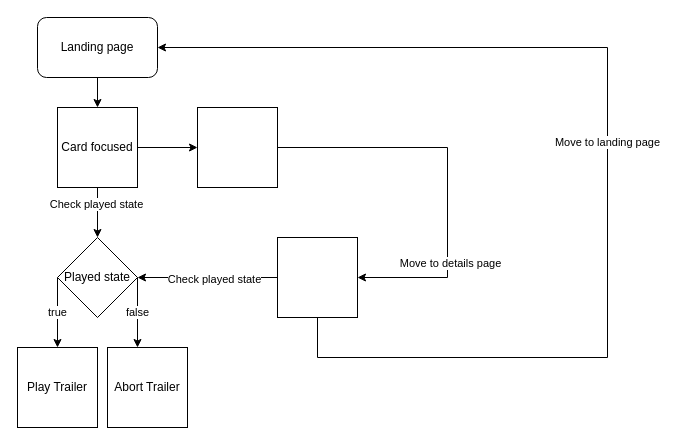
The diagram is 677 pixels wide and 445 high, and some of its shapes have lost their labels. Each missing label, with the box of its shape:
Click Card: (196, 106, 278, 188)
Details page: (276, 236, 358, 318)
